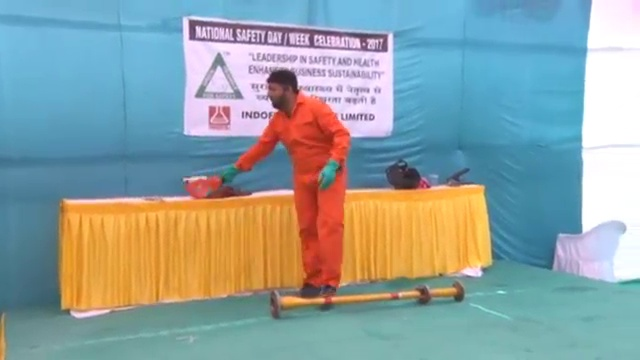helmet_off: (263, 70, 297, 107)
person: (229, 70, 351, 312)
